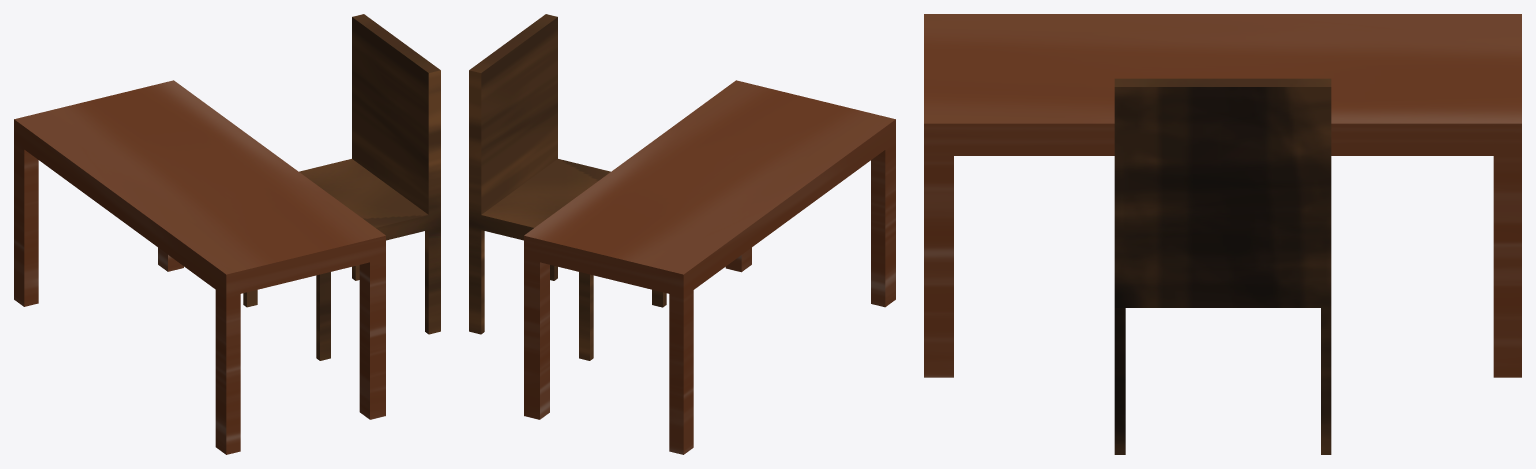
The model's file is table an char.glb.
3 views of the same model, side by side, from view 1: azimuth 30°, elevation 25°; view 2: azimuth 150°, elevation 25°; view 3: azimuth 270°, elevation 25° (orthographic). The views are drawn at different scales.
Visible parts, largest first — view 1: Cube, Cube.001; view 2: Cube, Cube.001; view 3: Cube, Cube.001.
Part boxes in pixels (left/top/right/bottom): Cube: left=14, top=80, right=385, bottom=454; Cube.001: left=243, top=14, right=440, bottom=360; Cube: left=524, top=80, right=895, bottom=454; Cube.001: left=469, top=14, right=666, bottom=360; Cube: left=924, top=14, right=1521, bottom=377; Cube.001: left=1114, top=78, right=1331, bottom=454.
Bounding box in the file's own units: 3.56 × 3.21 × 4.64.
Materials: 2 (2 with a texture image).
